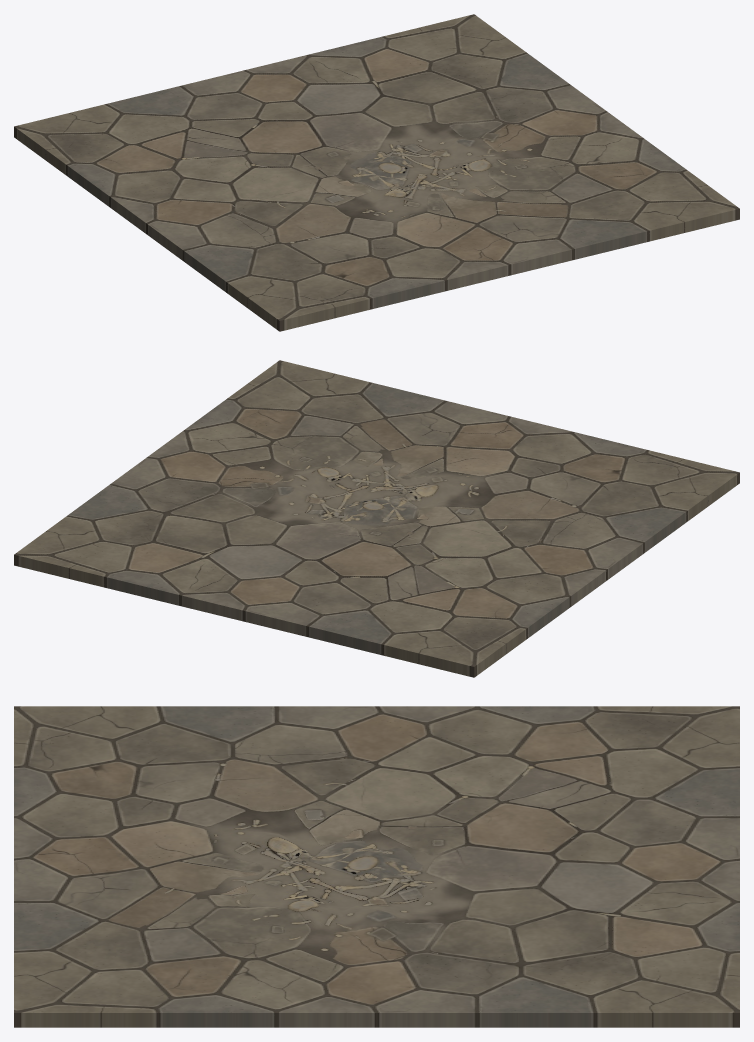
Rendered from catacomb_floor_b.glb.
3 views of the same model, one above another, from view 1: azimuth 30°, elevation 25°; view 2: azimuth 150°, elevation 25°; view 3: azimuth 270°, elevation 25° (orthographic). The views are drawn at different scales.
Parts seen in each view (by area): view 1: catacomb_floor_b; view 2: catacomb_floor_b; view 3: catacomb_floor_b.
Part boxes in pixels (bbox=[...]): catacomb_floor_b: bbox=[14, 14, 739, 331]; catacomb_floor_b: bbox=[14, 360, 739, 677]; catacomb_floor_b: bbox=[14, 706, 739, 1027].
Size of the model in its own units: 4 by 0.135 by 4.
1 material, 1 textured.
